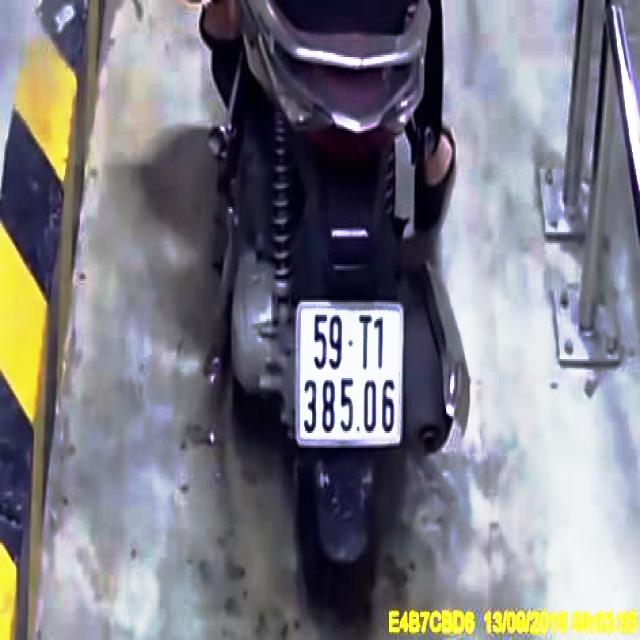license_plate: (300, 306, 401, 440)
